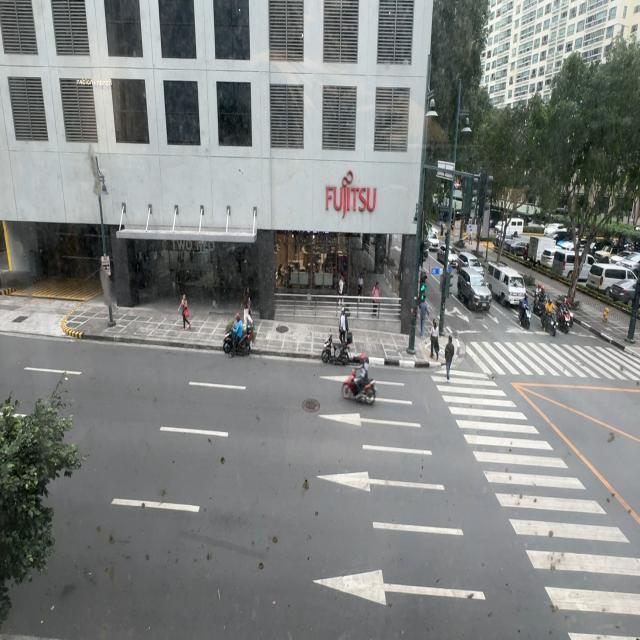crossing: (444, 336, 454, 380), (430, 320, 440, 360)
pedestrain: (241, 281, 252, 331), (178, 293, 191, 331), (419, 299, 429, 340)
